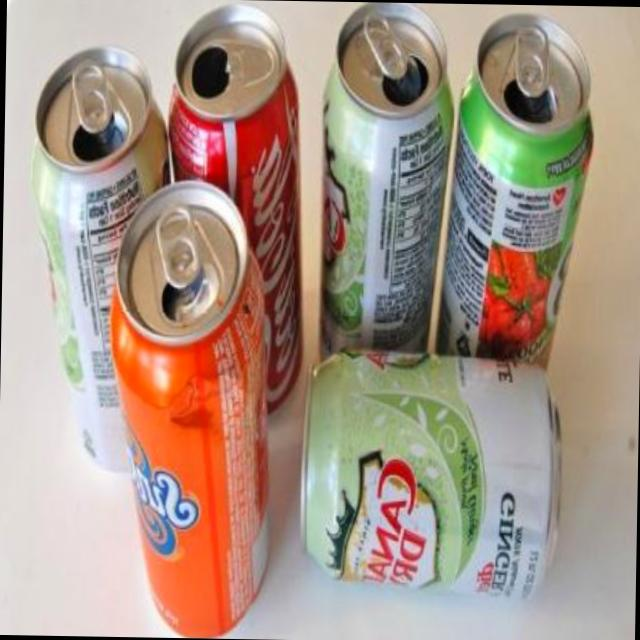metal: (113, 178, 269, 633), (301, 351, 556, 593), (31, 44, 166, 468), (167, 3, 300, 411), (439, 13, 590, 362), (324, 1, 451, 354)
